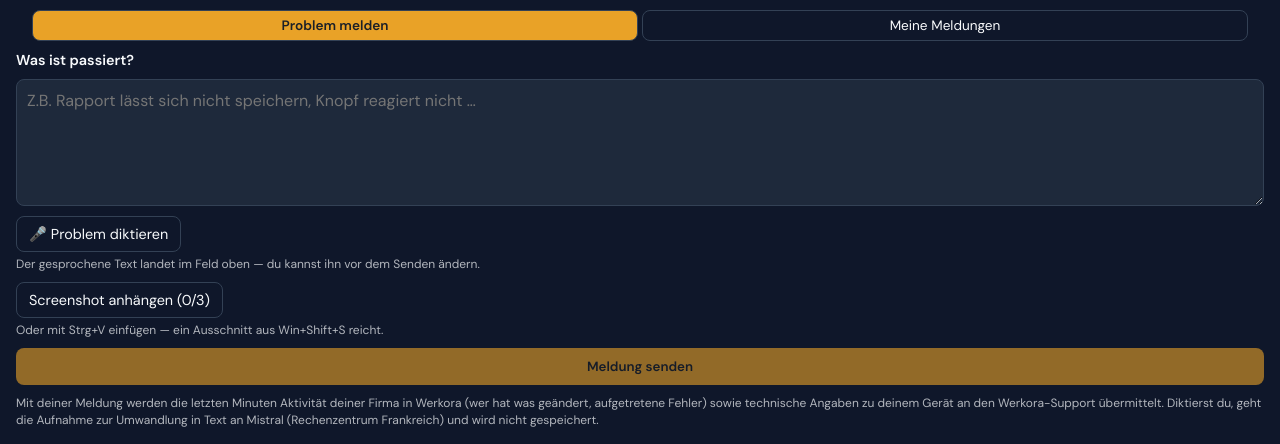
Test case: SupportForm › zeigt die Referenznummer als Quittung
Replace the text in the text box labelled "Was ist passiert?" with "Rapport speichert nicht" at (640, 142), box [16,79,1264,206]
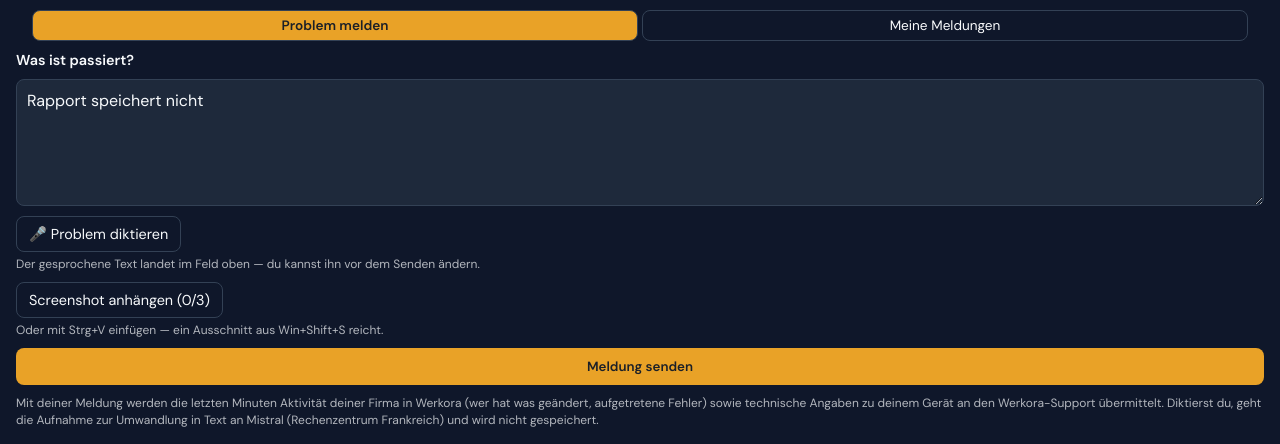
Click the button "Meldung senden" at (640, 366), box [16,348,1264,385]
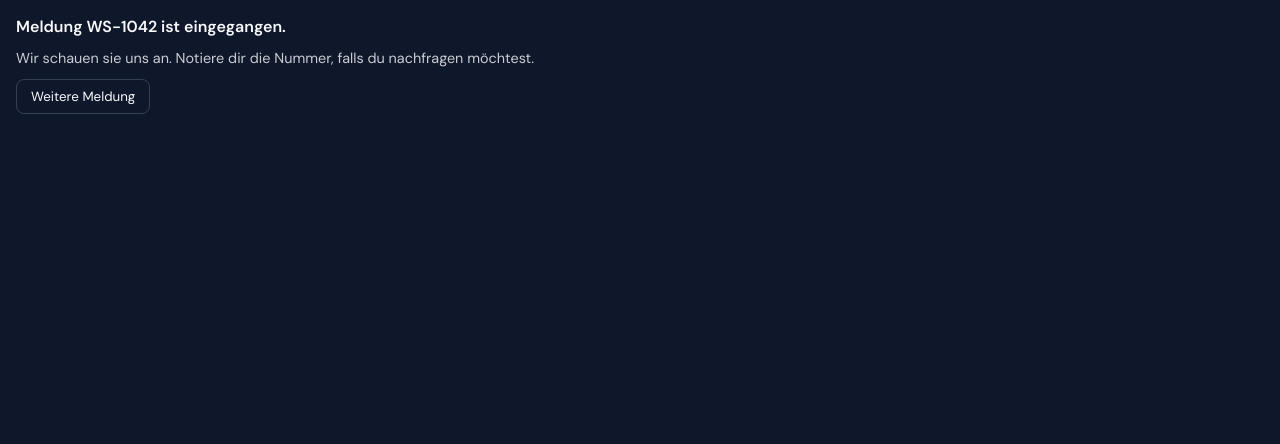
expect the text "Meldung WS-1042 ist eingegangen." is shown: met, box [16,16,286,37]
